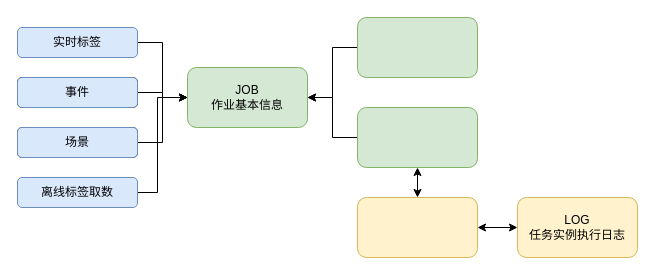
This 655x275 diagram has some shape labels left out. Here are the shapes that lost their labels. From the top down, the centre of each, then its label:
At pixel 417 47: "SCHEDUlE 调度信息".
At pixel 417 137: "TASK 任务信息".
At pixel 417 227: "INSTANCE 任务实例".
